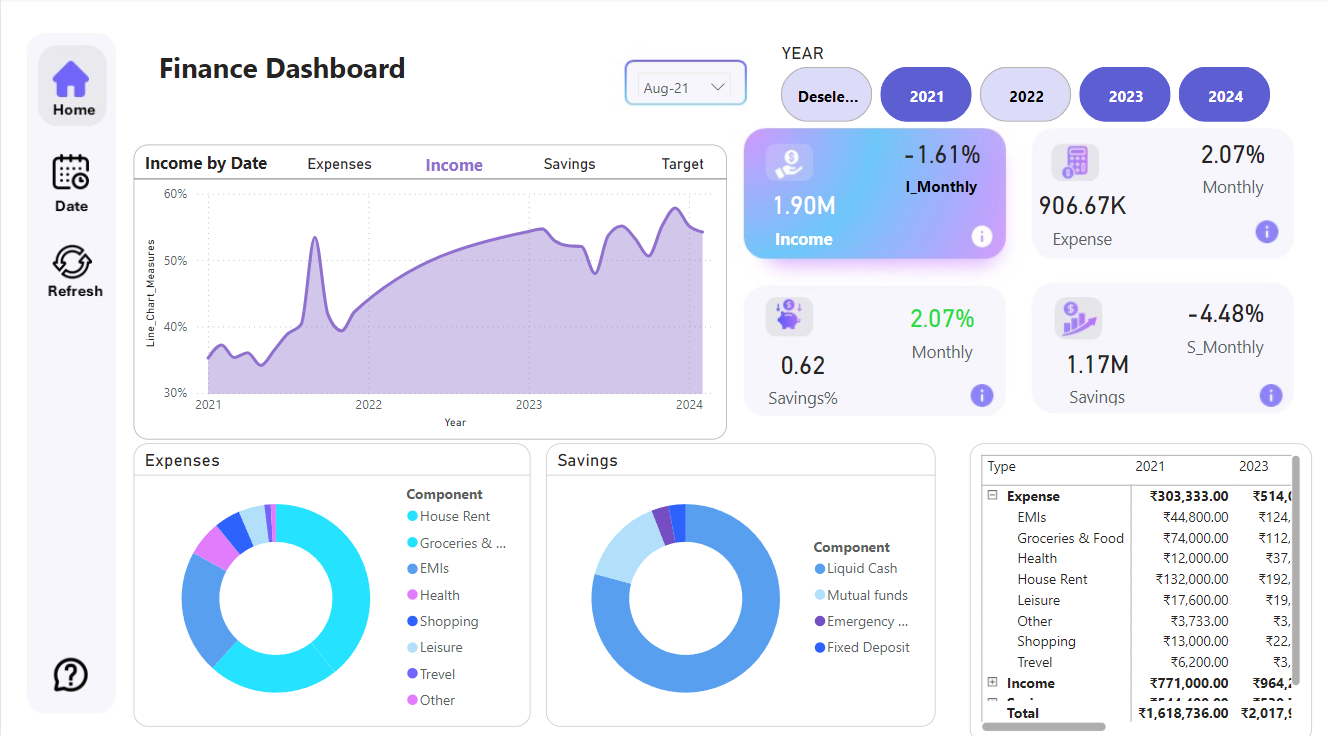

What the dashboard file says about the page in this screenshot:
{"tool":"powerbi","page":{"name":"Page 1","canvas":[1280,720],"ordinal":0},"visuals":[{"type":"advancedSlicerVisual","fields":{"Values":["Dataset.YEAR"]},"box":[747.9,43.9,485.8,82.3],"z":0},{"type":"donutChart","title":"Savings ","fields":{"Y":["Dataset.Savings"],"Category":["Dataset.Component"]},"box":[526,430.5,376.3,273.7],"z":2000},{"type":"donutChart","title":"Expenses","fields":{"Y":["Dataset.Expense"],"Category":["Dataset.Component"]},"box":[128.3,430.5,383.4,273.7],"z":4000},{"type":"card","fields":{"Values":["Dataset.Expense"]},"box":[976.4,171,135.4,79.8],"z":5000},{"type":"lineChart","fields":{"Category":["Dataset.Date.Variation.Date Hierarchy.Year","Dataset.Date.Variation.Date Hierarchy.Quarter","Dataset.Date.Variation.Date Hierarchy.Month","Dataset.Date.Variation.Date Hierarchy.Day"],"Y":["Dataset.Line_Chart_Measures"]},"box":[127.9,142.4,573.1,284.7],"z":6000},{"type":"card","fields":{"Values":["Dataset.Savings"]},"box":[1005,329.4,106.2,70],"z":7000},{"type":"card","fields":{"Values":["Dataset.Savings%"]},"box":[714.1,320.7,119.7,88.4],"z":8000},{"type":"pivotTable","fields":{"Rows":["Dataset.Type","Dataset.Component"],"Columns":["Dataset.YEAR"],"Values":["Dataset.Total_Value"]},"box":[935.1,430.5,330.7,289.4],"z":9000},{"type":"advancedSlicerVisual","fields":{"Values":["Line_Selection_Table.Type"]},"box":[277.5,130.3,460.9,62.7],"z":10000},{"type":"textbox","box":[146.8,44.2,260.8,51.3],"z":11000},{"type":"slicer","fields":{"Values":["Selected_Date.Month-yr"]},"box":[604.4,62.7,109.8,32.8],"z":12000},{"type":"card","fields":{"Values":["Dataset.Expenses_Monthly_Gr"]},"box":[826.4,267.8,164.1,105],"z":13000},{"type":"card","fields":{"Values":["Dataset.Income"]},"box":[691.3,171,166.8,79.8],"z":14000},{"type":"card","fields":{"Values":["Dataset.Income_Monthly_Gr"]},"box":[832.4,71.2,150.8,179.8],"z":15000},{"type":"card","fields":{"Values":["Dataset.Savings_Monthly_Gr"]},"box":[1083.4,271.4,196.6,88.1],"z":16000},{"type":"card","fields":{"Values":["Dataset.Expenses_Monthly_Gr"]},"box":[1097.9,100.1,182.2,123.1],"z":17000}]}

Visuals, with their boxes on the page's 1280x720 design canvas (x1, y1, x2, y2). These are canvas units, not pixel positions in the 1328x736 screenshot, which may show the page scaled, cropped or inside an application window:
advancedSlicerVisual - Dataset.YEAR: crop(748, 44, 1234, 126)
"Savings " donutChart: crop(526, 430, 902, 704)
"Expenses" donutChart: crop(128, 430, 512, 704)
card - Dataset.Expense: crop(976, 171, 1112, 251)
lineChart - Dataset.Date.Variation.Date Hierarchy.Year x Dataset.Date.Variation.Date Hierarchy.Quarter: crop(128, 142, 701, 427)
card - Dataset.Savings: crop(1005, 329, 1111, 399)
card - Dataset.Savings%: crop(714, 321, 834, 409)
pivotTable - Dataset.Type x Dataset.Component: crop(935, 430, 1266, 720)
advancedSlicerVisual - Line_Selection_Table.Type: crop(278, 130, 738, 193)
textbox: crop(147, 44, 408, 96)
slicer - Selected_Date.Month-yr: crop(604, 63, 714, 96)
card - Dataset.Expenses_Monthly_Gr: crop(826, 268, 990, 373)
card - Dataset.Income: crop(691, 171, 858, 251)
card - Dataset.Income_Monthly_Gr: crop(832, 71, 983, 251)
card - Dataset.Savings_Monthly_Gr: crop(1083, 271, 1280, 360)
card - Dataset.Expenses_Monthly_Gr: crop(1098, 100, 1280, 223)
